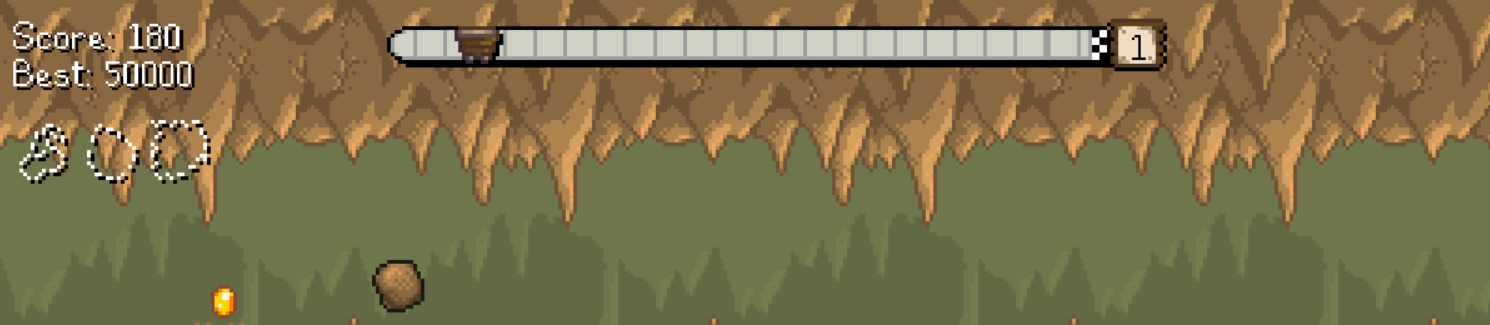boulder: (372, 260, 423, 311)
coins: (213, 285, 235, 317)
score: (127, 19, 185, 53)
